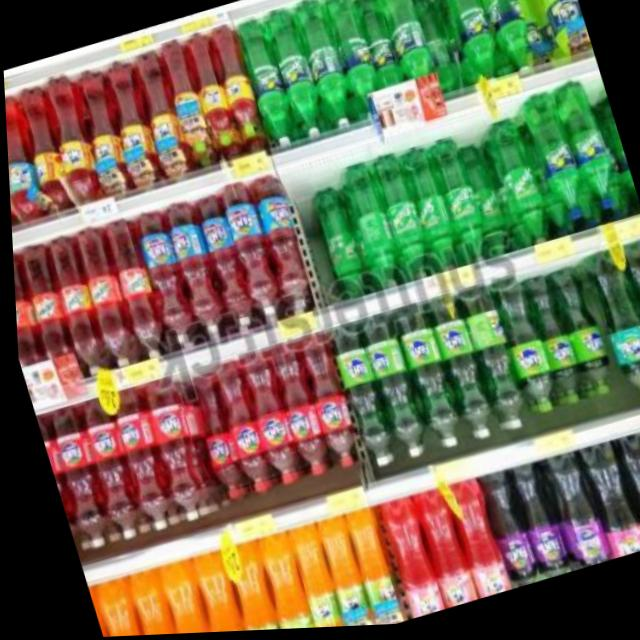Drinks: (451, 284, 528, 439), (353, 312, 428, 467), (387, 303, 462, 457), (420, 293, 494, 448), (134, 376, 210, 526), (322, 323, 395, 475), (38, 404, 109, 554), (70, 394, 141, 544), (100, 387, 171, 536), (487, 279, 559, 423), (245, 172, 316, 316), (214, 177, 285, 321), (519, 91, 589, 230), (260, 342, 329, 483), (552, 79, 621, 218), (483, 118, 553, 255), (159, 200, 227, 341), (127, 208, 195, 349), (231, 351, 299, 492), (291, 333, 359, 474), (230, 14, 298, 154), (259, 6, 327, 145), (288, 0, 356, 135), (546, 267, 613, 404), (203, 359, 269, 498), (189, 194, 254, 332), (396, 145, 461, 278), (520, 275, 583, 412), (179, 373, 240, 505), (471, 473, 536, 595), (501, 465, 566, 586), (454, 144, 512, 265), (31, 413, 80, 556), (372, 0, 439, 99), (438, 0, 506, 93), (319, 0, 379, 102), (470, 0, 538, 87), (352, 0, 403, 93)
